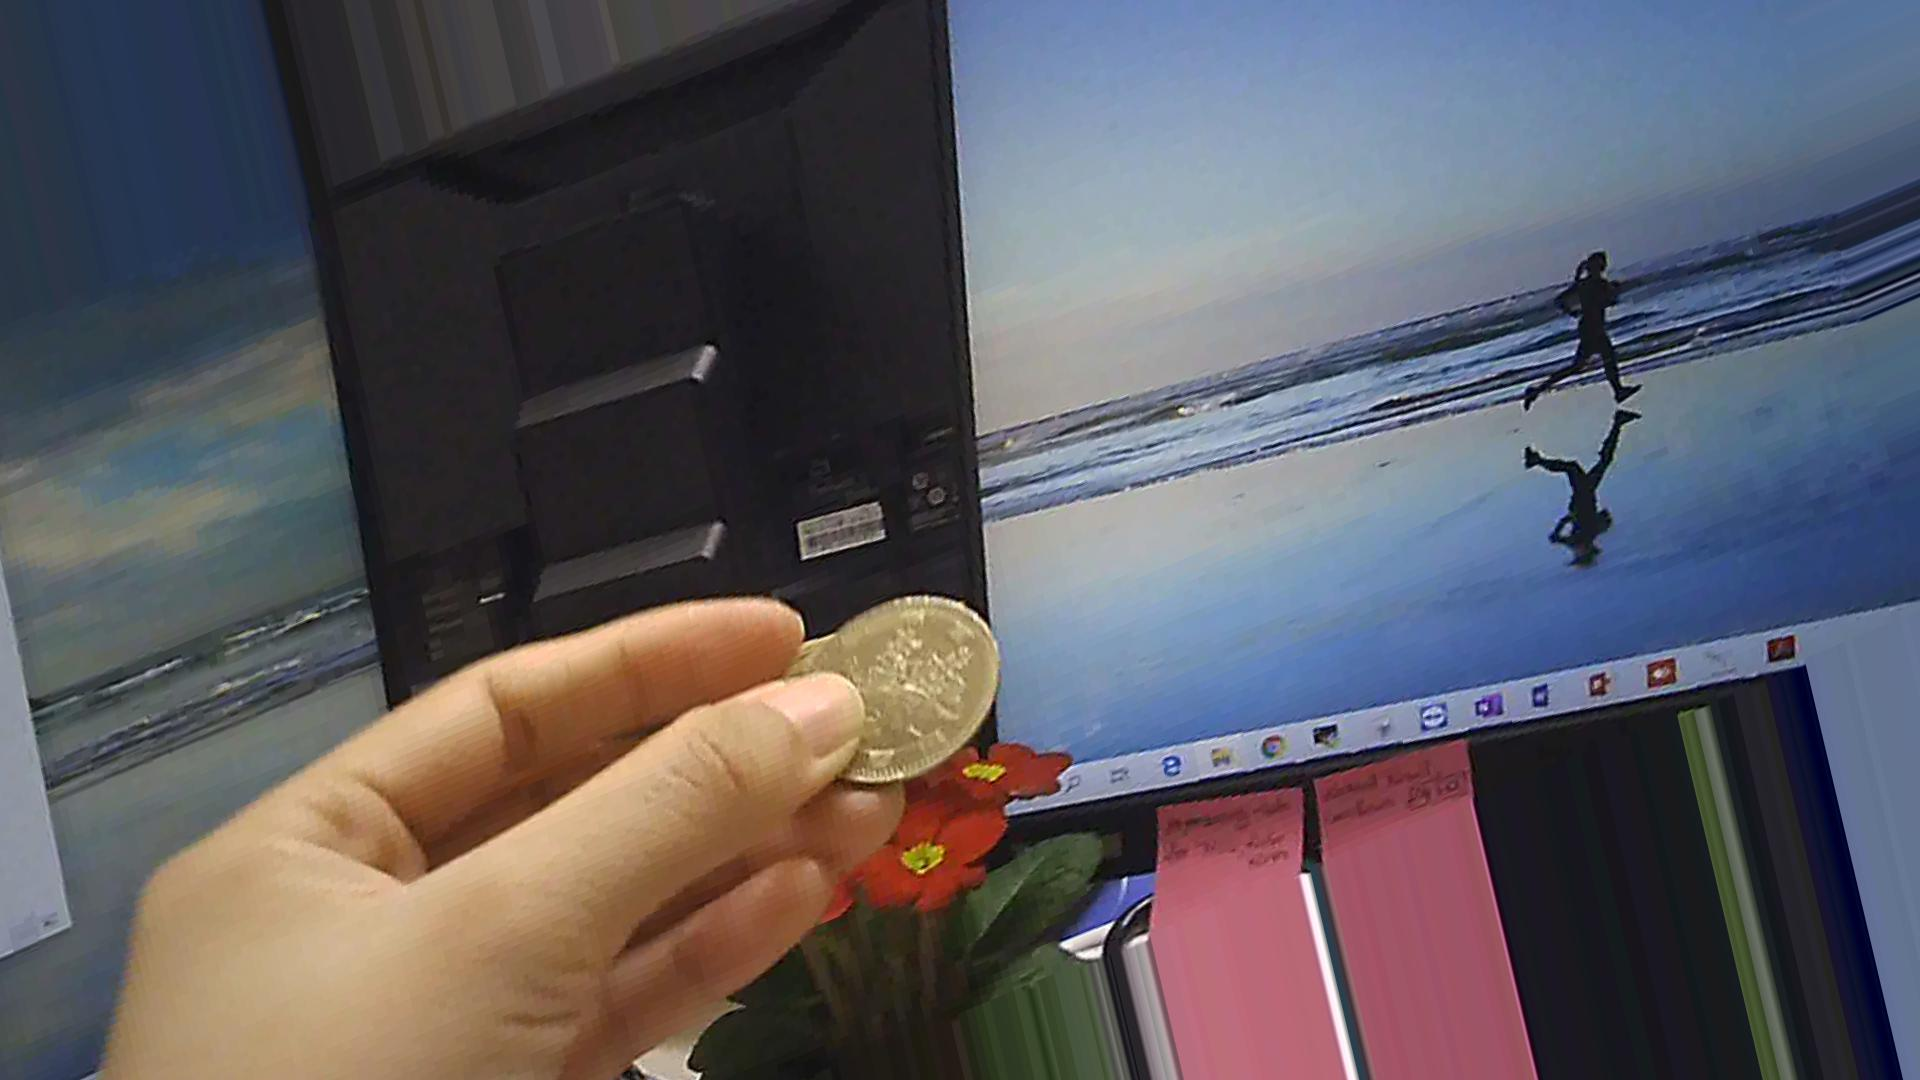500 Yen: (807, 575, 1019, 779)
